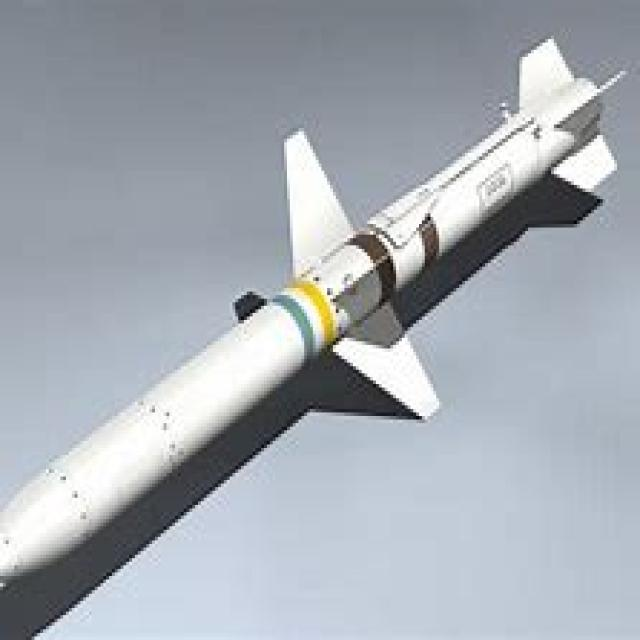missile: (0, 31, 626, 592)
